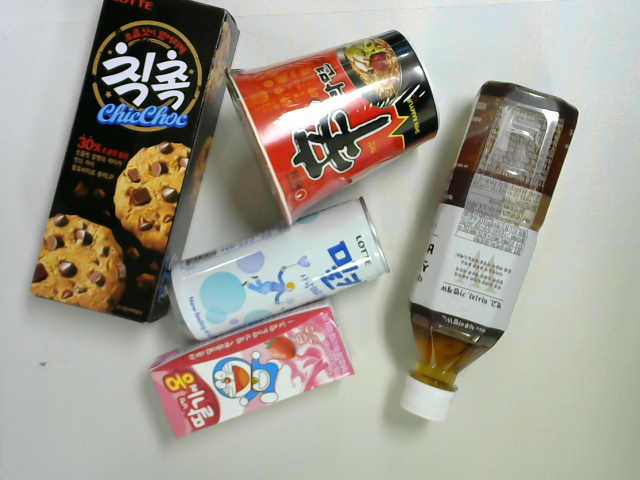Chicchok_Original_2400: (30, 1, 242, 324)
Milkies_250ml: (170, 196, 389, 343)
Post-meal_recipe_W_tea_500ml: (397, 79, 581, 423)
Sinramen_small: (223, 30, 441, 228)
Strawberry_E_Mong: (149, 301, 355, 438)
